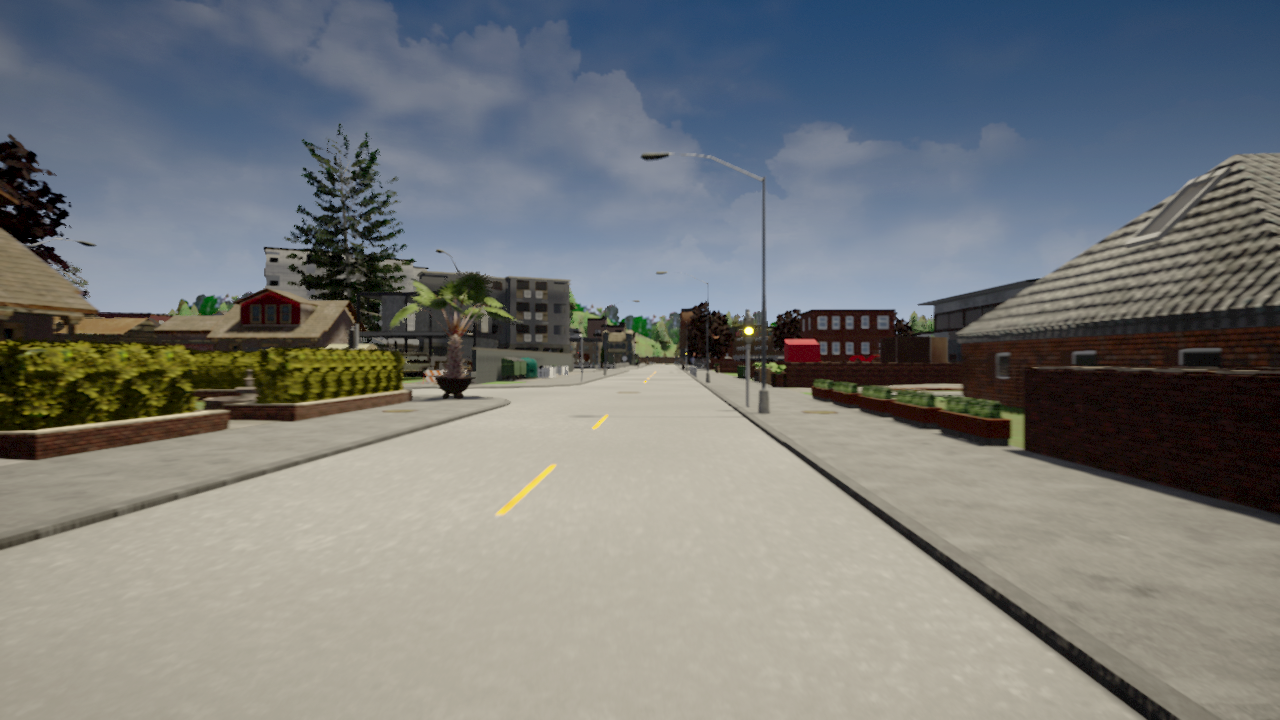yellow: (741, 315, 754, 346)
